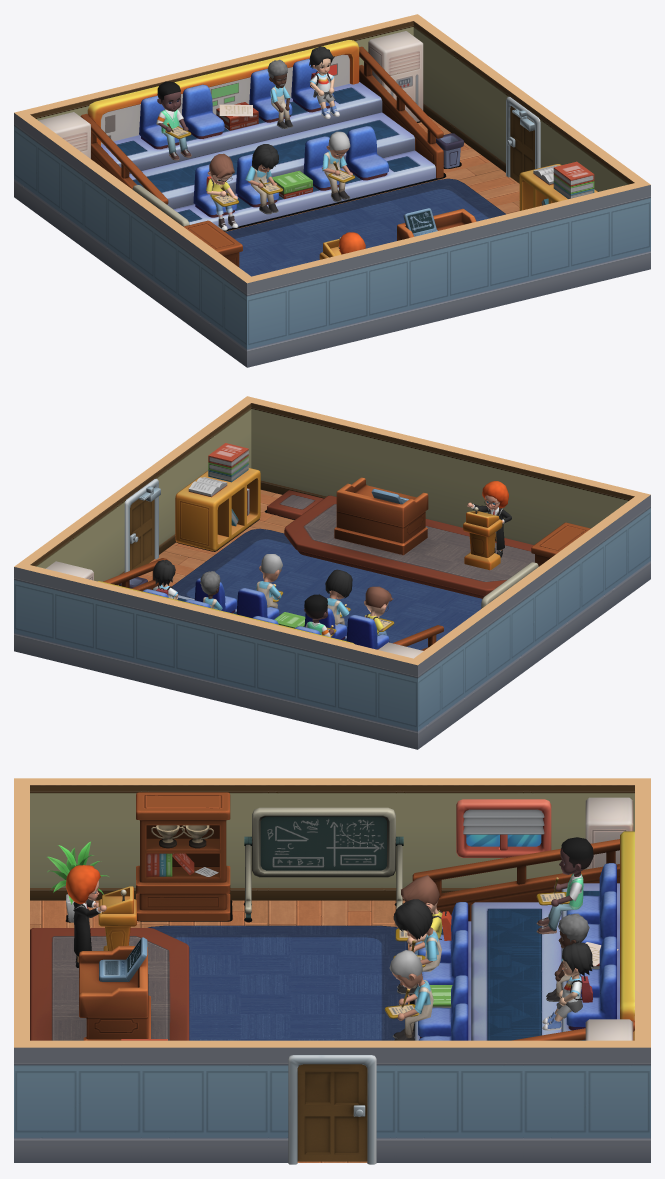
The model's file is meixuan.FBX.
3 renders of one model, top to bottom at view 1: azimuth 30°, elevation 25°; view 2: azimuth 150°, elevation 25°; view 3: azimuth 270°, elevation 25°, orthographic. The views are drawn at different scales.
Parts seen in each view (by area): view 1: Amphitheatre_Item_Stair, Amphitheatre_Item_Carpet, School_Well011, School_Well012, School_Well014, School_Well010, School_Well013, School_Well018, School_Well015, School_Well017, School_Well019, School_Well016 (+31 smaller); view 2: Amphitheatre_Item_Dais, Amphitheatre_Item_Carpet, School_Well002, School_Well003, School_Well, School_Well001, School_Well004, Amphitheatre_Item_Bookcase_01, Amphitheatre_Wall010, Amphitheatre_Item_Stair, Amphitheatre_Wall012, Amphitheatre_Wall011 (+32 smaller); view 3: Amphitheatre_Item_Stair, Amphitheatre_Item_Carpet, Amphitheatre_Item_Dais, School_Well006, School_Well008, School_Well005, School_Well009, Amphitheatre_Item_Bookcase_02, Amphitheatre_Item_Blackboard, Amphitheatre_Wall015, Amphitheatre_Wall018, StaffLounge_Item_Door_02 (+38 smaller).
Part boxes in pixels (x1=…): Amphitheatre_Item_Stair: x1=80, y1=40, x2=443, y2=228; Amphitheatre_Item_Carpet: x1=225, y1=178, x2=505, y2=276; School_Well011: x1=489, y1=204, x2=570, y2=308; School_Well012: x1=408, y1=224, x2=489, y2=328; School_Well014: x1=247, y1=263, x2=327, y2=367; School_Well010: x1=570, y1=185, x2=650, y2=288; School_Well013: x1=328, y1=244, x2=408, y2=347; School_Well018: x1=60, y1=147, x2=107, y2=264; School_Well015: x1=200, y1=249, x2=246, y2=367; School_Well017: x1=107, y1=181, x2=153, y2=299; School_Well019: x1=14, y1=113, x2=60, y2=230; School_Well016: x1=154, y1=215, x2=200, y2=333; Amphitheatre_Item_Dais: x1=267, y1=477, x2=534, y2=598; Amphitheatre_Item_Carpet: x1=172, y1=528, x2=482, y2=649; School_Well002: x1=175, y1=606, x2=256, y2=710; School_Well003: x1=94, y1=586, x2=175, y2=690; School_Well: x1=337, y1=645, x2=417, y2=749; School_Well001: x1=256, y1=626, x2=336, y2=729; School_Well004: x1=14, y1=567, x2=94, y2=670; Amphitheatre_Item_Bookcase_01: x1=175, y1=443, x2=260, y2=550; Amphitheatre_Wall010: x1=251, y1=403, x2=321, y2=497; Amphitheatre_Item_Stair: x1=98, y1=558, x2=443, y2=650; Amphitheatre_Wall012: x1=403, y1=440, x2=483, y2=527; Amphitheatre_Wall011: x1=322, y1=420, x2=402, y2=498; Amphitheatre_Item_Stair: x1=412, y1=831, x2=634, y2=1040; Amphitheatre_Item_Carpet: x1=148, y1=925, x2=407, y2=1040; Amphitheatre_Item_Dais: x1=30, y1=886, x2=189, y2=1040; School_Well006: x1=396, y1=1047, x2=523, y2=1162; School_Well008: x1=141, y1=1047, x2=268, y2=1162; School_Well005: x1=523, y1=1047, x2=650, y2=1162; School_Well009: x1=14, y1=1047, x2=141, y2=1162; Amphitheatre_Item_Bookcase_02: x1=136, y1=792, x2=230, y2=920; Amphitheatre_Item_Blackboard: x1=244, y1=807, x2=403, y2=919; Amphitheatre_Wall015: x1=30, y1=785, x2=141, y2=900; Amphitheatre_Wall018: x1=396, y1=785, x2=523, y2=900; StaffLounge_Item_Door_02: x1=297, y1=1064, x2=367, y2=1161.
Bounding box in the file's own units: 10.1 × 2.44 × 10.02.
